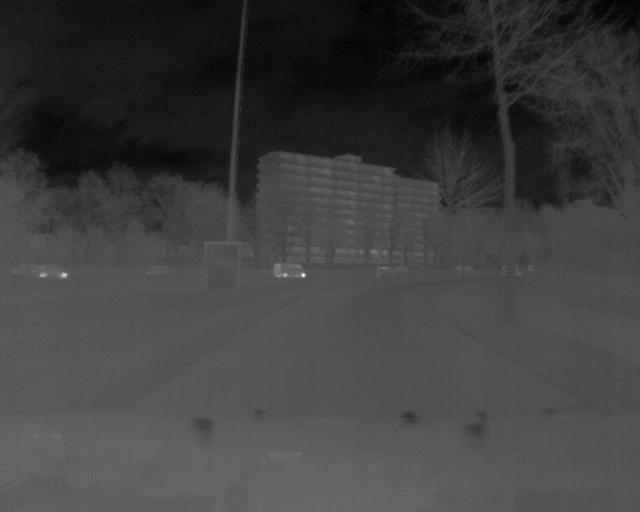car: (271, 260, 310, 281), (34, 263, 74, 280)
